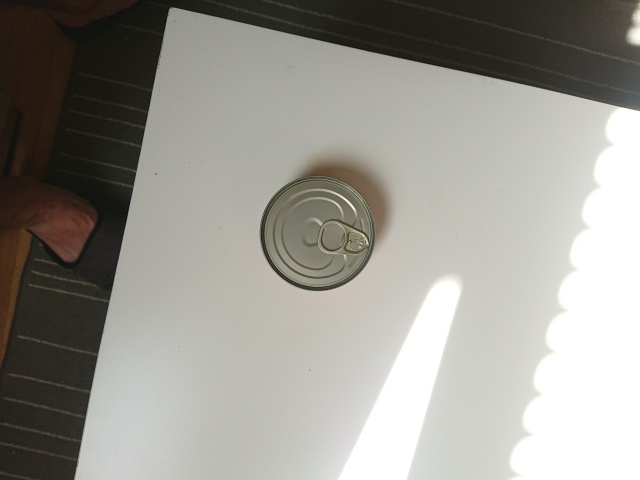Gavrilovic Pork Liver Pate 100g: (256, 172, 378, 293)
